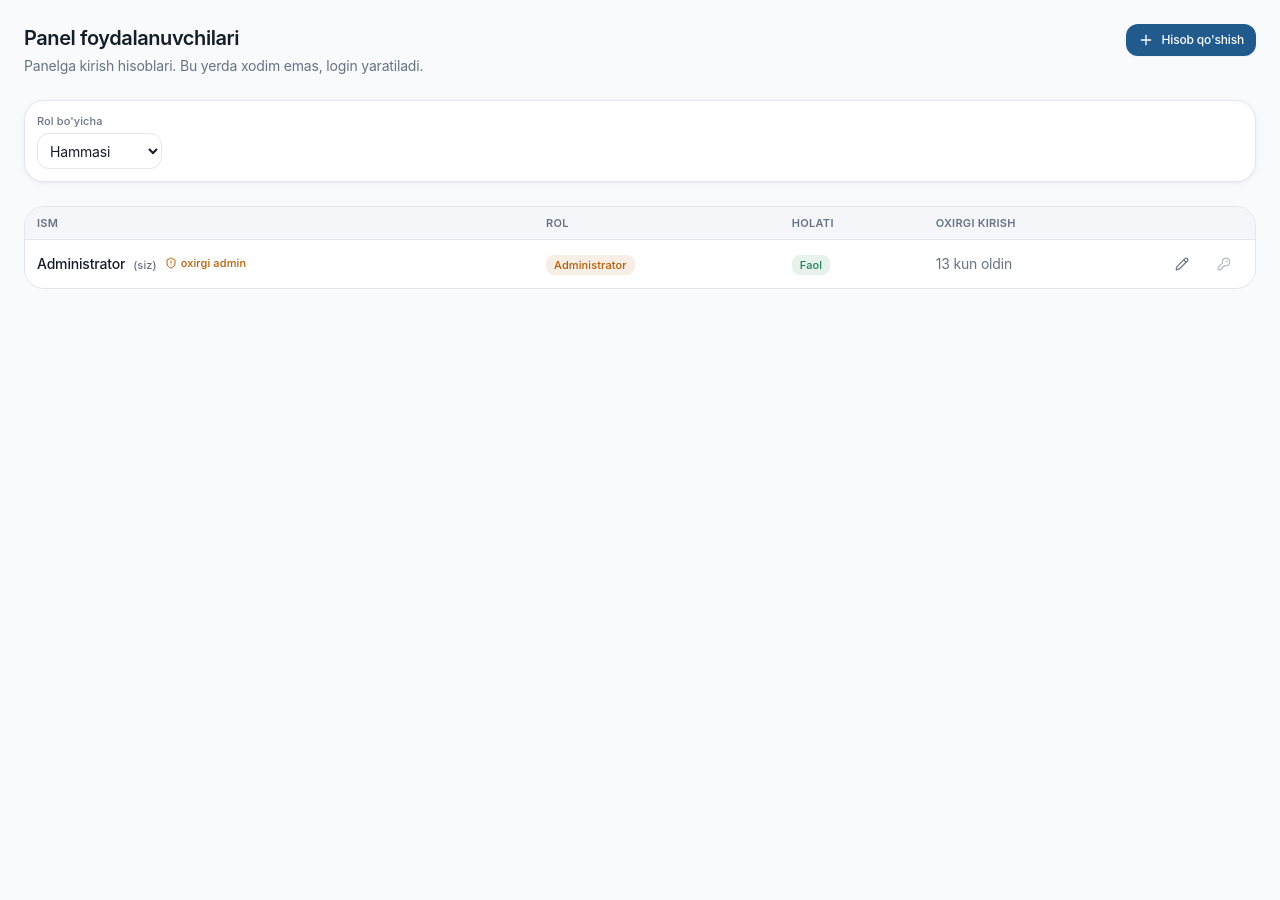
Test: a user is a login, not a salesperson › says so on the create form
Click the button "Hisob qo'shish" at (1191, 40), box [1126,24,1256,56]
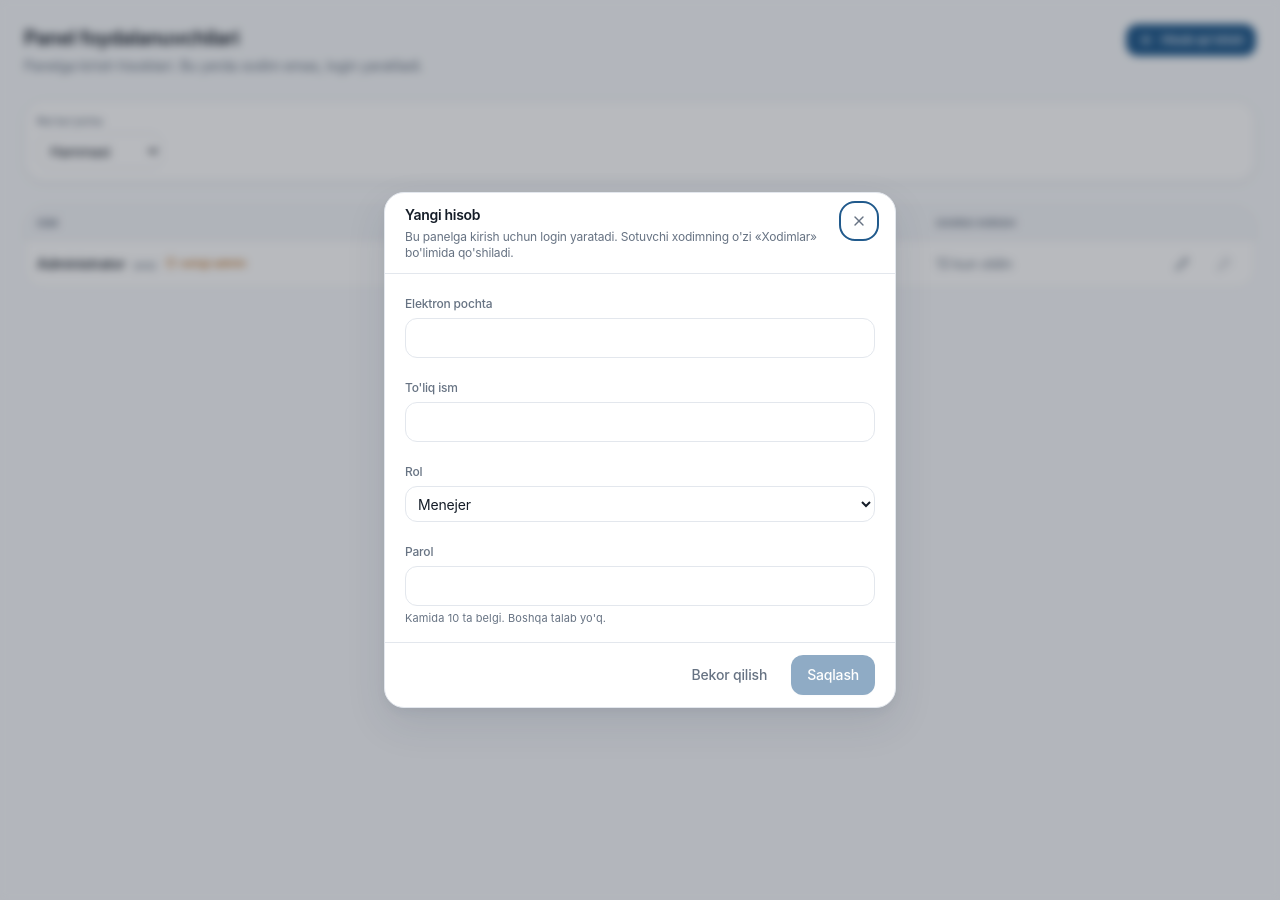
Check: the text "Bu panelga kirish uchun login yaratadi. Sotuvchi xodimning o'zi «Xodimlar» bo'limida qo'shiladi." is shown, box [405,229,817,260]
